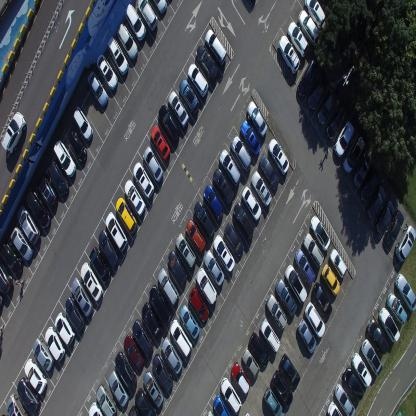car: (0, 111, 27, 155), (25, 186, 51, 229), (105, 209, 129, 252), (16, 205, 41, 246), (132, 159, 156, 200), (284, 263, 308, 304), (147, 283, 170, 325), (204, 28, 228, 68), (52, 138, 76, 178), (297, 58, 320, 99), (342, 133, 365, 174), (169, 318, 192, 359), (70, 277, 93, 318), (195, 43, 219, 82), (115, 194, 138, 234), (277, 35, 300, 75), (80, 262, 103, 302), (195, 266, 217, 307), (0, 238, 24, 275), (193, 200, 215, 240), (124, 178, 146, 218), (157, 266, 179, 306), (124, 2, 146, 42), (106, 36, 128, 76), (394, 223, 416, 263), (394, 272, 416, 312), (275, 277, 297, 317), (213, 233, 235, 273), (116, 22, 139, 60), (360, 337, 383, 375), (35, 170, 58, 208), (16, 377, 40, 413), (98, 228, 119, 269), (232, 201, 254, 240), (160, 336, 182, 375), (132, 319, 154, 358), (24, 358, 47, 395), (143, 145, 164, 185), (213, 166, 234, 206), (96, 52, 118, 90), (87, 70, 109, 108), (158, 104, 180, 142), (167, 90, 189, 128), (178, 78, 200, 116), (287, 20, 309, 58), (378, 305, 400, 343), (271, 370, 293, 408), (220, 376, 242, 414), (250, 170, 272, 208), (258, 153, 280, 191), (267, 137, 289, 175), (230, 134, 252, 172), (219, 148, 241, 186), (141, 301, 163, 339), (152, 353, 174, 391), (142, 370, 164, 408), (114, 351, 136, 389), (89, 246, 111, 284), (44, 325, 66, 363), (48, 159, 70, 197), (10, 226, 34, 260), (174, 233, 196, 270), (266, 293, 288, 330), (246, 100, 268, 137), (239, 119, 261, 156), (54, 311, 76, 348), (305, 300, 325, 340), (384, 208, 404, 248), (202, 249, 223, 287), (184, 218, 205, 256), (353, 149, 372, 191), (249, 330, 270, 368), (203, 183, 224, 221), (302, 232, 324, 268), (297, 8, 319, 44), (367, 319, 389, 355), (333, 120, 354, 157), (123, 334, 144, 371), (108, 370, 129, 407), (72, 105, 93, 142), (187, 62, 209, 97), (32, 336, 54, 371), (167, 248, 187, 286), (295, 248, 315, 286), (150, 126, 171, 162), (351, 352, 372, 388), (223, 221, 244, 257), (310, 214, 330, 251), (296, 318, 316, 355), (241, 185, 261, 222), (334, 382, 356, 415), (313, 281, 332, 319), (188, 286, 208, 322), (374, 200, 394, 236), (280, 353, 300, 389), (68, 128, 88, 164), (306, 76, 327, 110), (179, 304, 200, 338), (95, 383, 117, 415), (344, 366, 364, 401), (231, 360, 251, 395), (64, 297, 84, 332), (317, 90, 336, 126), (136, 0, 158, 31), (321, 262, 341, 296), (360, 168, 380, 202), (366, 186, 386, 220), (260, 318, 280, 352), (325, 107, 346, 139), (386, 292, 407, 324), (134, 387, 158, 415), (304, 0, 325, 30), (330, 246, 348, 280), (240, 348, 260, 378), (262, 386, 282, 415), (5, 394, 28, 416), (212, 394, 233, 416), (0, 259, 13, 293), (327, 400, 344, 416), (150, 0, 167, 15), (88, 401, 103, 415), (128, 404, 140, 415), (205, 408, 214, 416), (0, 294, 4, 309)
